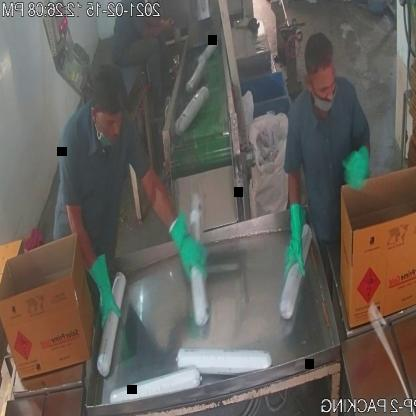glove: (270, 184, 312, 291), (166, 218, 212, 293), (88, 247, 119, 338), (339, 140, 368, 200)
no_glove: (144, 15, 178, 44)
